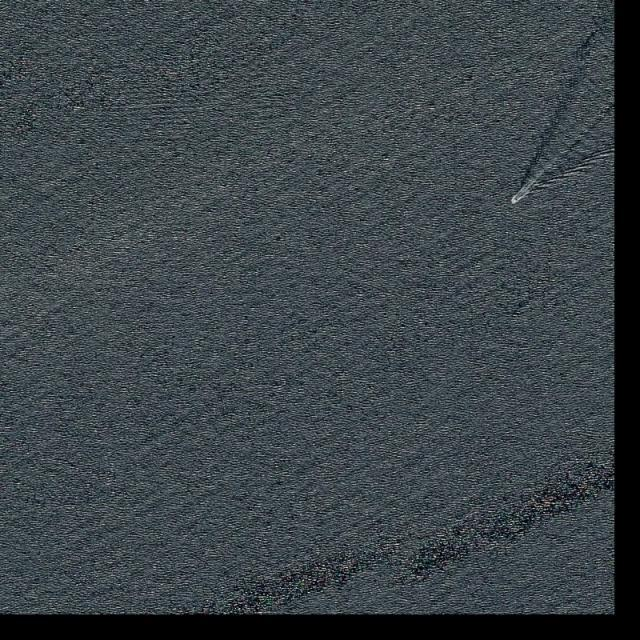ship: (511, 198, 517, 205)
